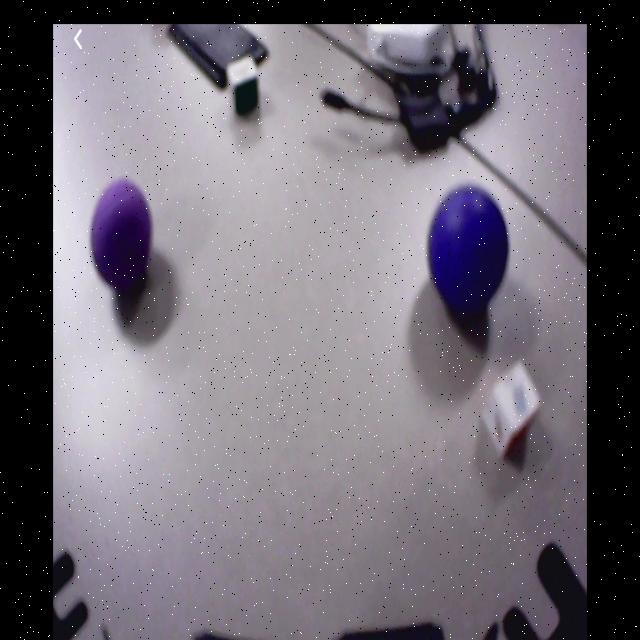ball: (428, 188, 511, 308), (91, 181, 152, 285)
